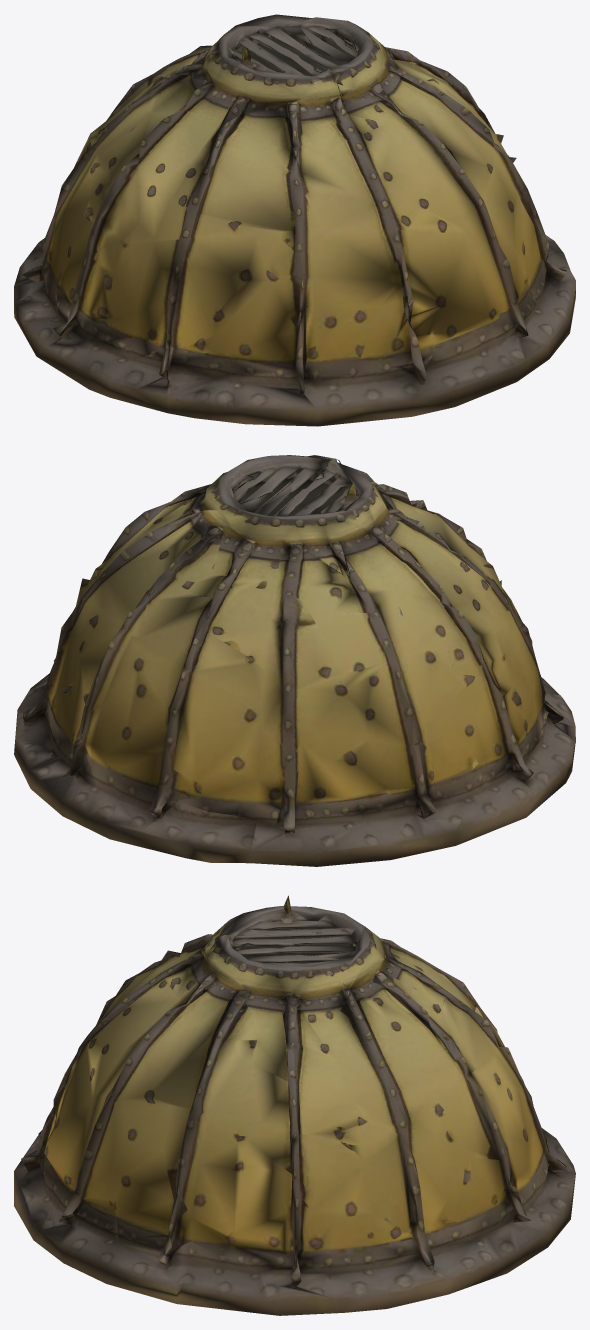
File: dome.glb
3 views of the same model, one above another, from view 1: azimuth 30°, elevation 25°; view 2: azimuth 150°, elevation 25°; view 3: azimuth 270°, elevation 25° (orthographic).
Parts seen in each view (by area): view 1: tripo_node_6a6d78c3-55bf-4f47-b30c-5c9e4a862bbf; view 2: tripo_node_6a6d78c3-55bf-4f47-b30c-5c9e4a862bbf; view 3: tripo_node_6a6d78c3-55bf-4f47-b30c-5c9e4a862bbf.
Boxes of the visible parts, left/top/right/bottom form: tripo_node_6a6d78c3-55bf-4f47-b30c-5c9e4a862bbf: left=14, top=14, right=575, bottom=426; tripo_node_6a6d78c3-55bf-4f47-b30c-5c9e4a862bbf: left=14, top=455, right=575, bottom=866; tripo_node_6a6d78c3-55bf-4f47-b30c-5c9e4a862bbf: left=14, top=895, right=575, bottom=1315.
Size of the model in its own units: 0.976 by 0.5273 by 0.9749.
1 material, 1 textured.
